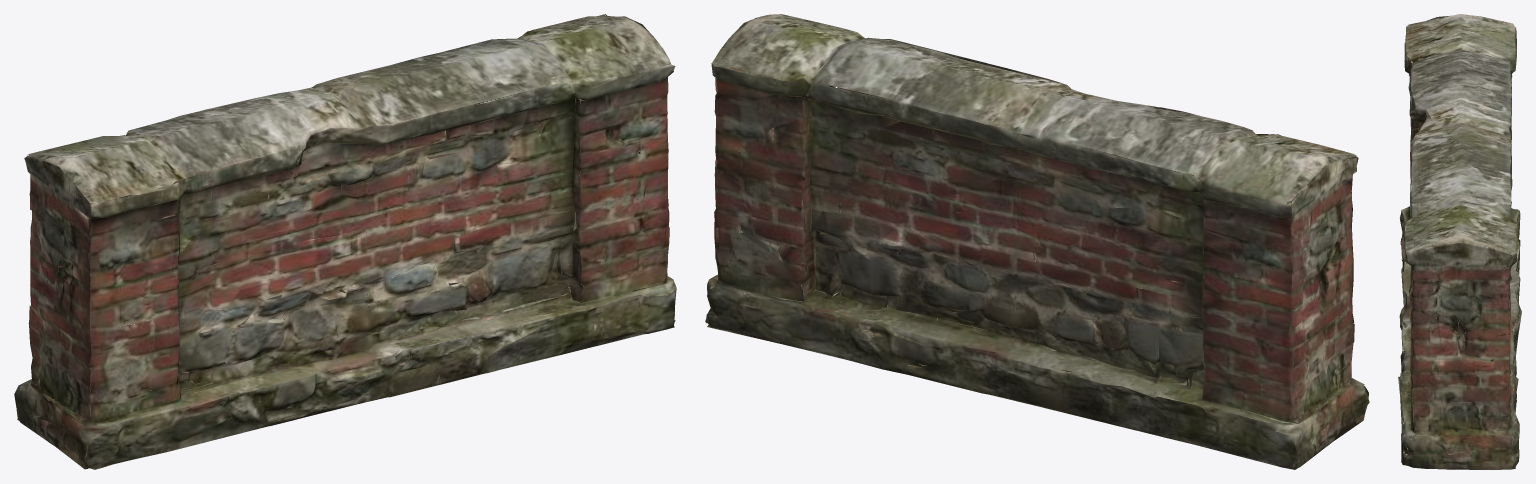
The model's file is service-wall-straight.glb.
The picture shows the model from 3 angles, left to right: view 1: azimuth 30°, elevation 25°; view 2: azimuth 150°, elevation 25°; view 3: azimuth 270°, elevation 25°; orthographic projection. The views are drawn at different scales.
Visible parts, largest first — view 1: Mesh_0; view 2: Mesh_0; view 3: Mesh_0.
Part boxes in pixels (x1,y1,x2,y2): Mesh_0: [14, 14, 676, 469]; Mesh_0: [705, 14, 1369, 469]; Mesh_0: [1398, 14, 1521, 469].
Size of the model in its own units: 1.9 by 0.8622 by 0.422.
Materials: 1 (1 with a texture image).
